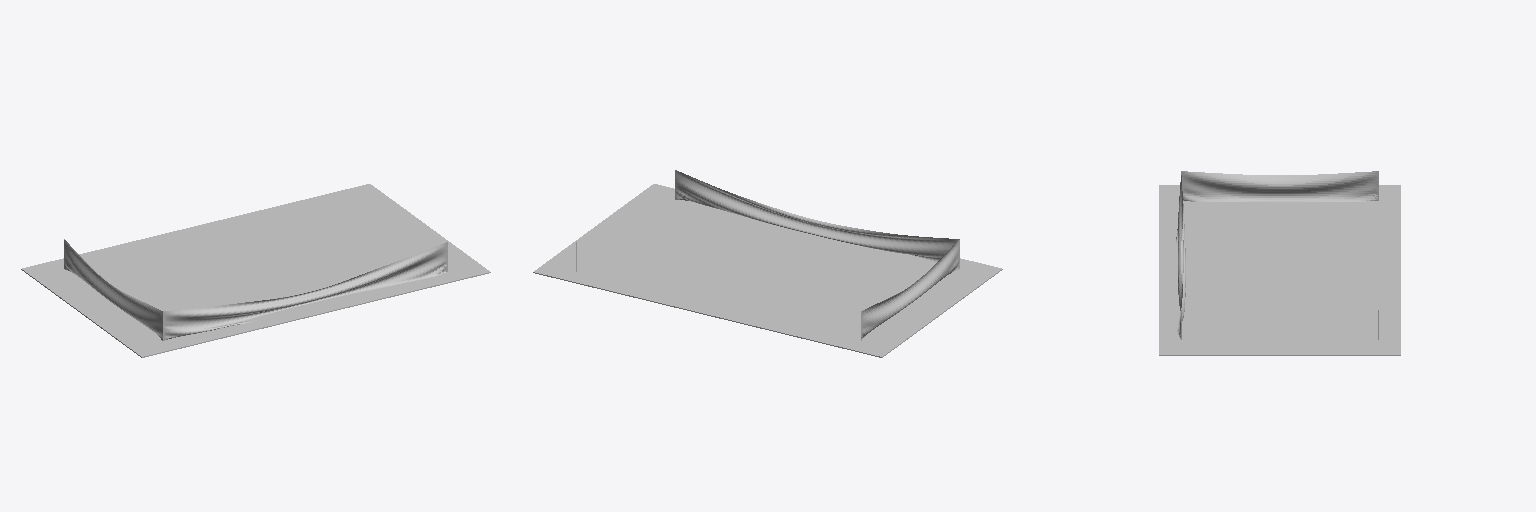
The model's file is ArenaNet.obj.
3 views of the same model, side by side, from view 1: azimuth 30°, elevation 25°; view 2: azimuth 150°, elevation 25°; view 3: azimuth 270°, elevation 25° (orthographic).
Parts seen in each view (by area): view 1: Plane_Plane.001, Grid.001_Grid.002, Grid; view 2: Plane_Plane.001, Grid.001_Grid.002, Grid; view 3: Plane_Plane.001, Grid, Grid.001_Grid.002.
Boxes of the visible parts, <box> form: Plane_Plane.001: <box>21,184,490,357</box>; Grid.001_Grid.002: <box>163,242,447,340</box>; Grid: <box>64,240,162,340</box>; Plane_Plane.001: <box>533,184,1002,357</box>; Grid.001_Grid.002: <box>675,170,958,262</box>; Grid: <box>861,240,959,340</box>; Plane_Plane.001: <box>1159,185,1400,355</box>; Grid: <box>1182,171,1377,201</box>; Grid.001_Grid.002: <box>1176,175,1185,338</box>.
Bounding box in the file's own units: 122 × 10.3 × 73.47.